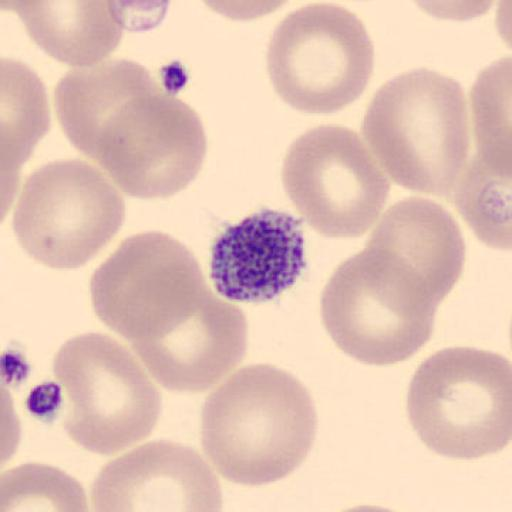Platelet: (206, 206, 312, 306), (21, 375, 70, 425)
RBC: (198, 360, 320, 488), (361, 64, 470, 198), (52, 329, 164, 458), (318, 247, 436, 368), (88, 228, 211, 342), (10, 156, 128, 271), (279, 121, 391, 241), (264, 0, 376, 117), (129, 286, 249, 395), (405, 343, 512, 462), (94, 93, 208, 202), (362, 194, 466, 308), (54, 56, 166, 158), (458, 54, 512, 255), (90, 437, 224, 512), (0, 54, 53, 230), (11, 0, 126, 68), (473, 51, 512, 247), (0, 63, 38, 234), (453, 150, 512, 253), (2, 55, 52, 166), (1, 460, 91, 512), (193, 0, 301, 23), (406, 0, 501, 23), (0, 381, 23, 472), (320, 498, 424, 512), (318, 502, 420, 512), (494, 0, 512, 52)
